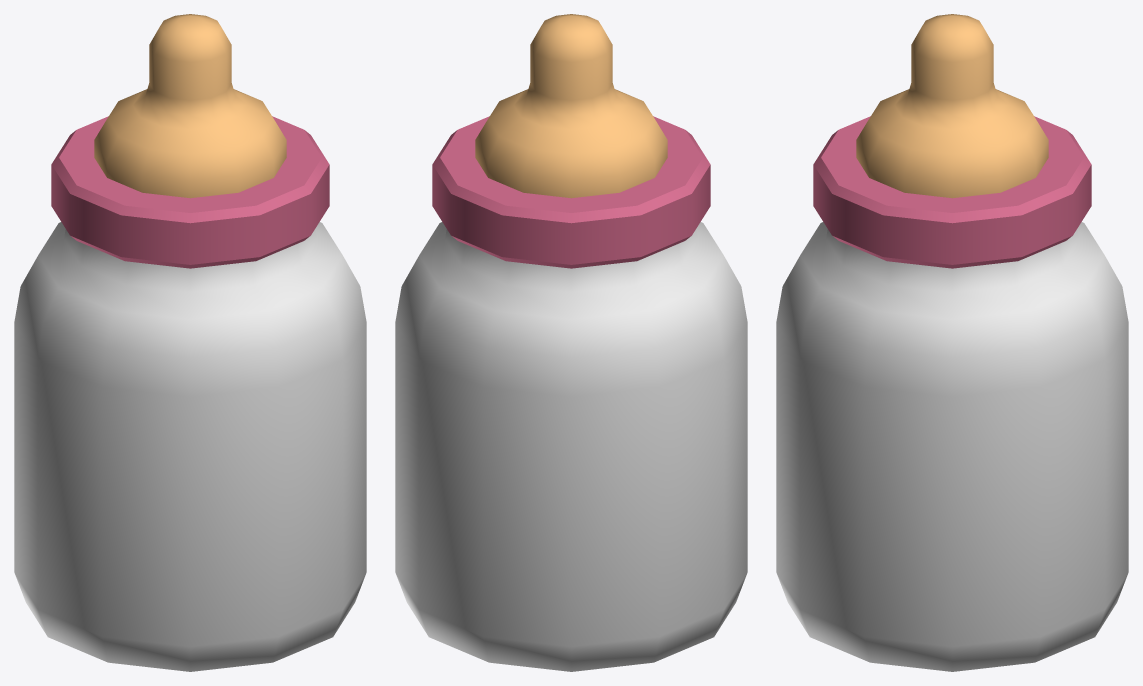
Rendered from Prop_BabyBottle.FBX.
3 renders of one model, left to right at view 1: azimuth 30°, elevation 25°; view 2: azimuth 150°, elevation 25°; view 3: azimuth 270°, elevation 25°, orthographic.
Visible parts, largest first — view 1: BabyBottle; view 2: BabyBottle; view 3: BabyBottle.
Boxes of the visible parts, x1,y1,x2,y2 form: BabyBottle: [14, 14, 366, 671]; BabyBottle: [395, 14, 747, 671]; BabyBottle: [776, 14, 1128, 671].
Size of the model in its own units: 18.39 by 34.02 by 18.39.
